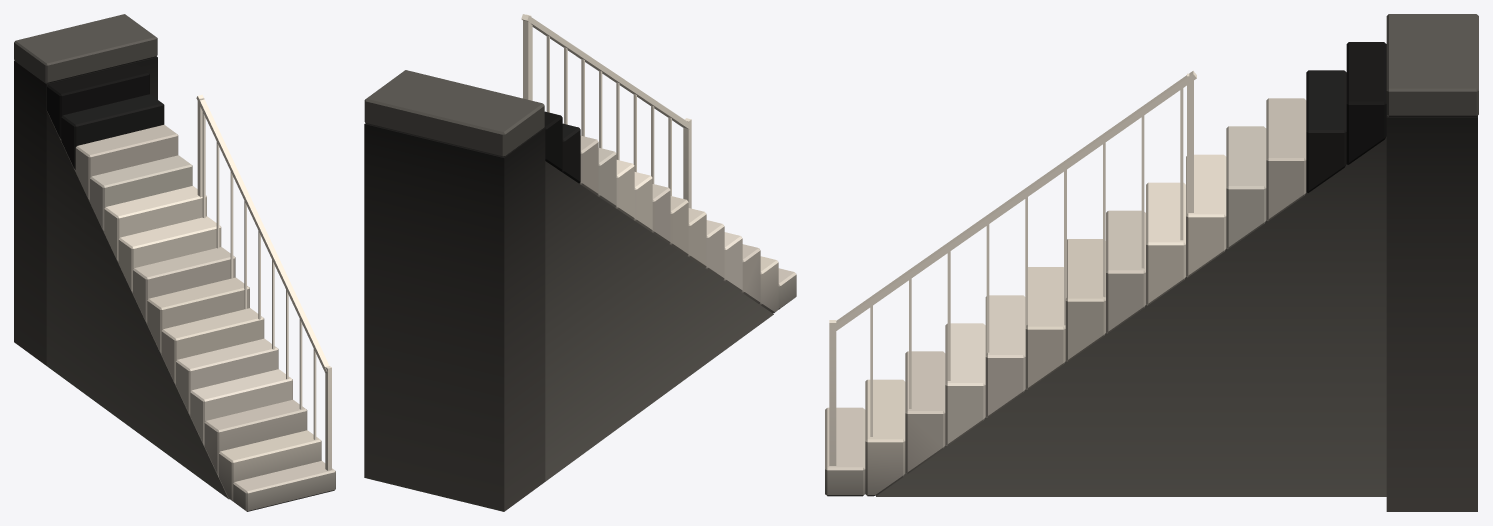
File: SM_VKI_Stair_Up_150x450_Stone.fbx
The picture shows the model from 3 angles, left to right: view 1: azimuth 30°, elevation 25°; view 2: azimuth 150°, elevation 25°; view 3: azimuth 270°, elevation 25°; orthographic projection. The views are drawn at different scales.
Parts seen in each view (by area): view 1: SM_VKI_Stair_Up_150x450_Stone.001; view 2: SM_VKI_Stair_Up_150x450_Stone.001; view 3: SM_VKI_Stair_Up_150x450_Stone.001.
Part boxes in pixels (box(x1,y1,x2,y2)): SM_VKI_Stair_Up_150x450_Stone.001: box(14, 14, 335, 511); SM_VKI_Stair_Up_150x450_Stone.001: box(364, 14, 796, 511); SM_VKI_Stair_Up_150x450_Stone.001: box(825, 14, 1478, 511).
Size of the model in its own units: 1.17 by 3.01 by 4.22.
